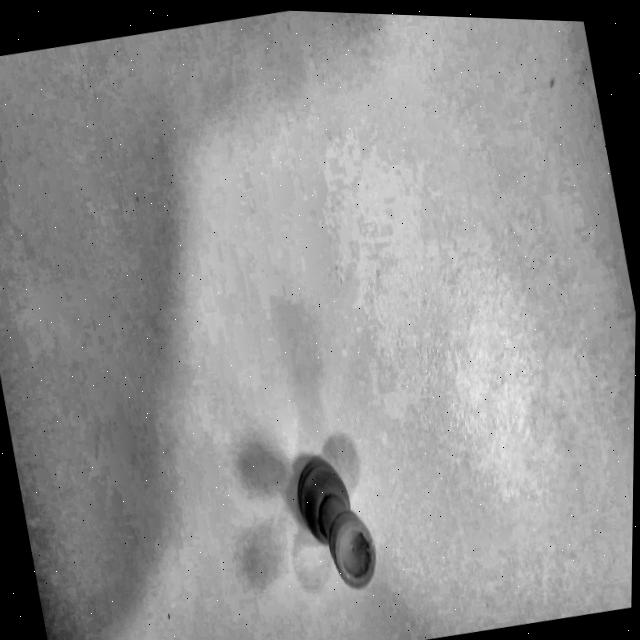white-rook: (237, 388, 405, 626)
